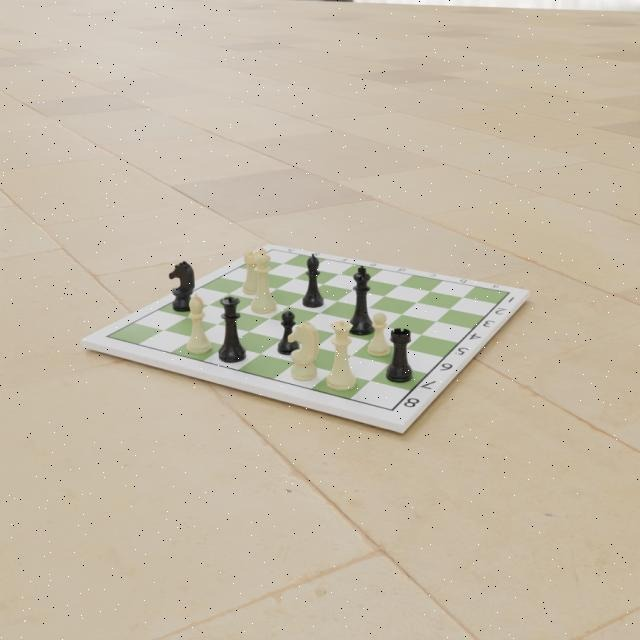black-bishop: (302, 253, 326, 310)
black-king: (346, 264, 373, 336)
black-knight: (168, 257, 196, 317)
black-pawn: (278, 305, 294, 357)
black-queen: (216, 292, 248, 363)
black-rook: (386, 327, 414, 385)
white-bishop: (185, 293, 213, 355)
white-king: (251, 248, 277, 316)
white-knight: (287, 319, 319, 383)
white-pawn: (367, 310, 390, 357)
white-queen: (326, 317, 358, 394)
white-rook: (240, 249, 263, 296)
